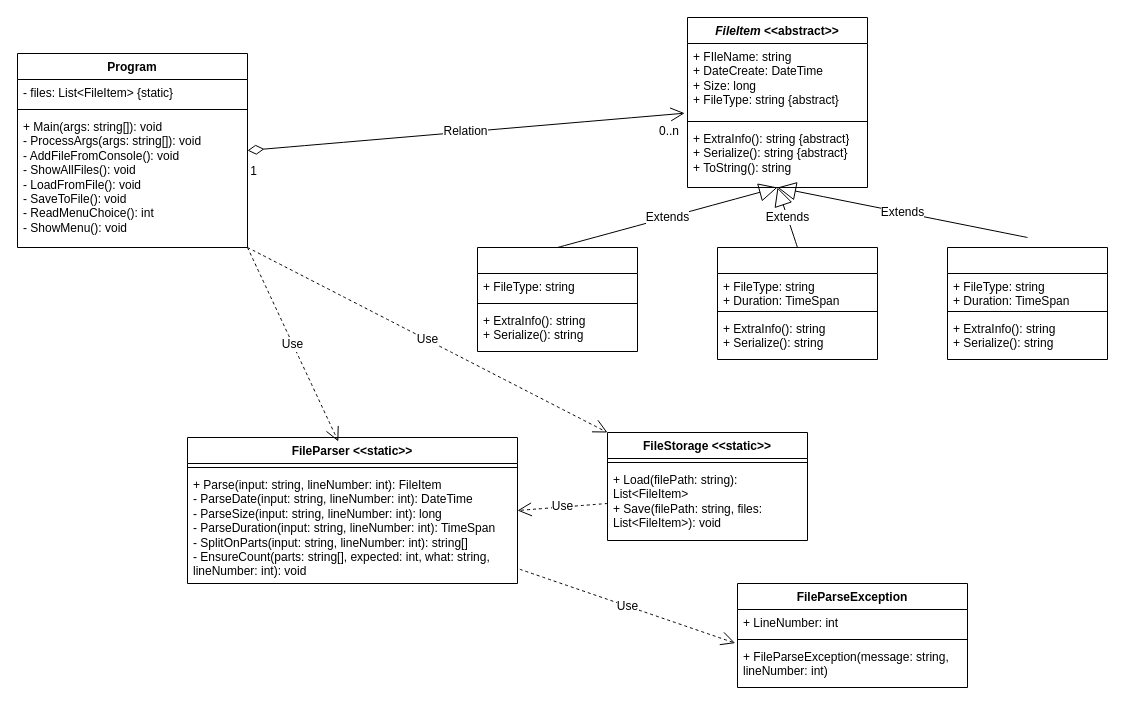
Image size: 1125x708. Some labels were removed from this diagram. The box of each missing label's shape, as (x1, y1, x2, y2) in pixels:
FileAudio: (716, 246, 878, 360)
FileMedia: (946, 246, 1108, 360)
FIleTxt: (476, 246, 638, 352)
